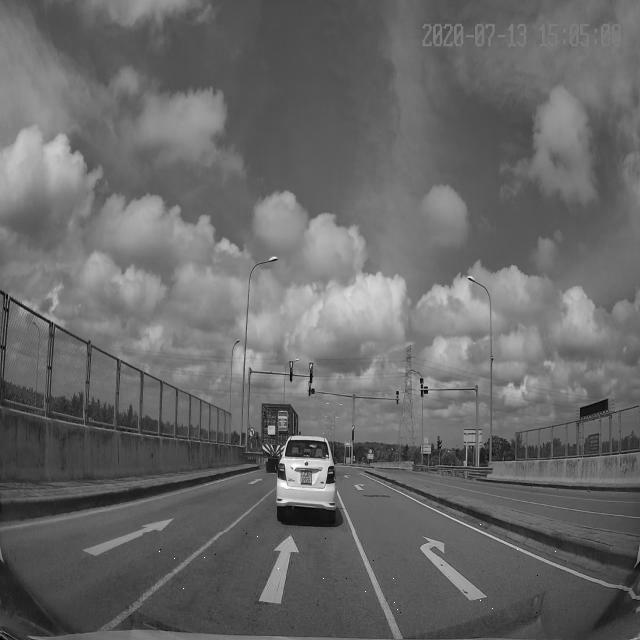forward: (144, 533, 387, 609)
right: (360, 522, 565, 627)
